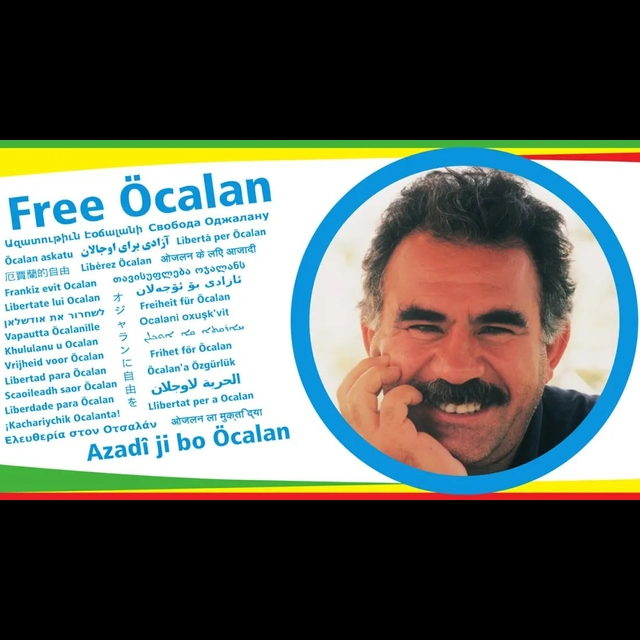APO: (322, 174, 583, 471)
